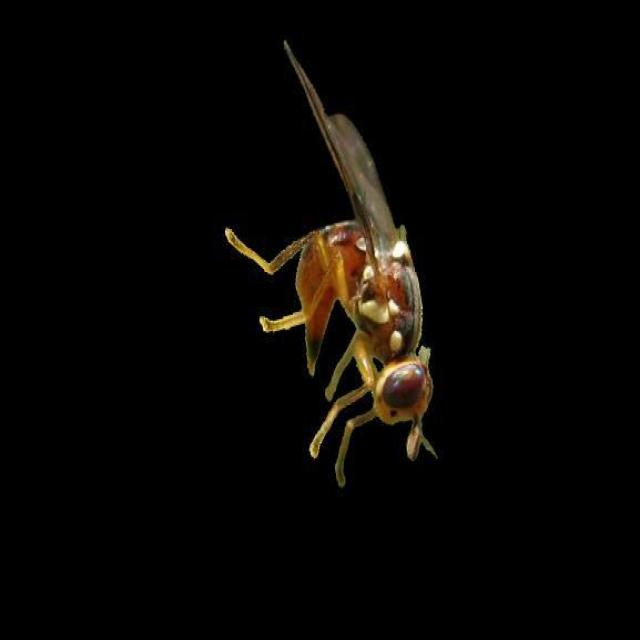Olive Fruit Fly: (225, 41, 436, 486)
